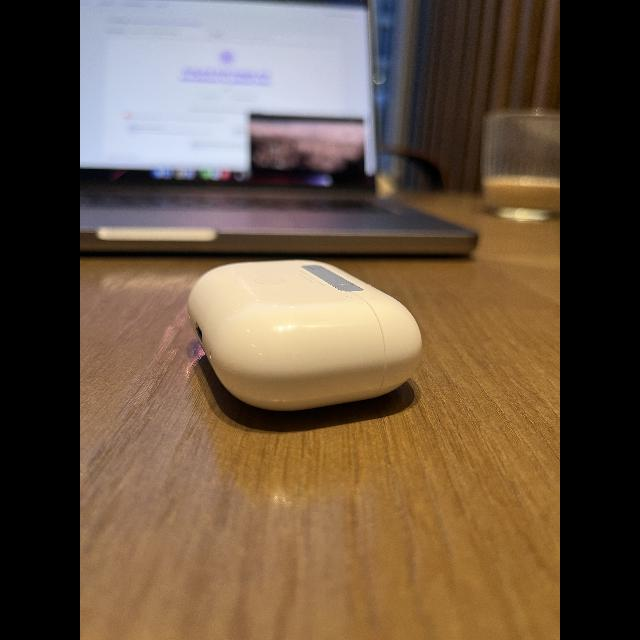AirPods Pro: (184, 257, 424, 435)
